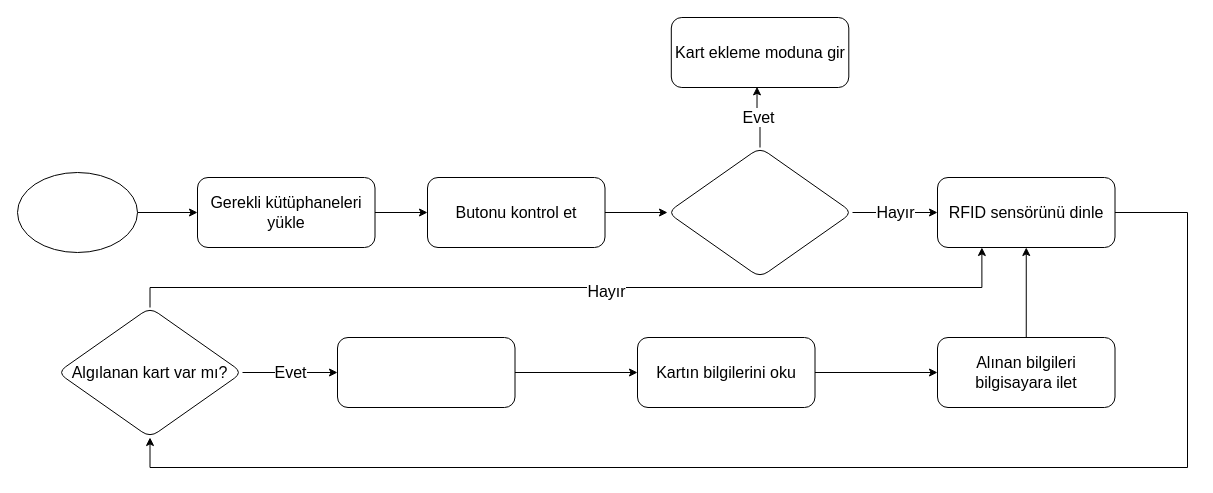
Some shapes in this 1213 by 493 pixel diagram are drawn without their labels. Here are the shapes that lost their labels. From the top down, the centre of each, then its label:
At (x=77, y=212): "Başla".
At (x=759, y=212): "Buton basılı mı?".
At (x=425, y=372): "Ses ve Işıkla uyarı ver".
